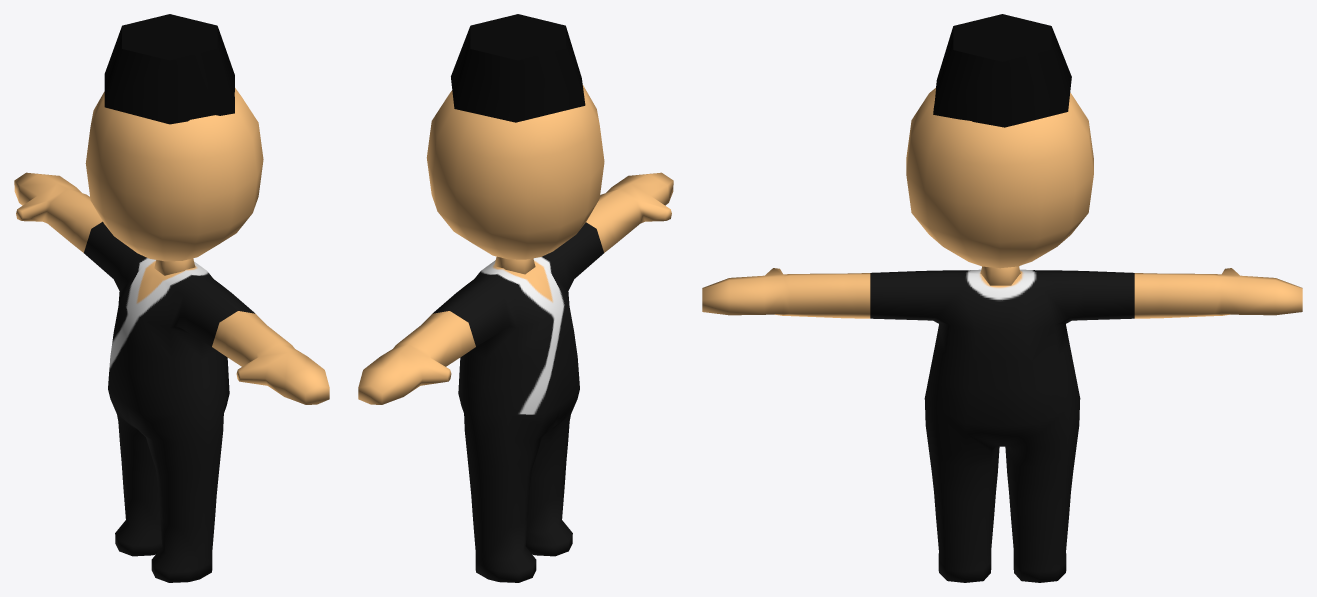
File: cha03_porter.FBX
3 renders of one model, left to right at view 1: azimuth 30°, elevation 25°; view 2: azimuth 150°, elevation 25°; view 3: azimuth 270°, elevation 25°, orthographic. The views are drawn at different scales.
Visible parts, largest first — view 1: cha03_porter, Cha02_Porter_mu; view 2: cha03_porter, Cha02_Porter_mu; view 3: cha03_porter, Cha02_Porter_mu.
Part boxes in pixels (x1,y1,x2,y2): cha03_porter: (14,88,329,582); Cha02_Porter_mu: (104,14,234,124); cha03_porter: (358,85,673,582); Cha02_Porter_mu: (451,14,585,122); cha03_porter: (702,88,1302,582); Cha02_Porter_mu: (933,14,1071,127).
Size of the model in its own units: 0.7338 by 2.4 by 2.44.
